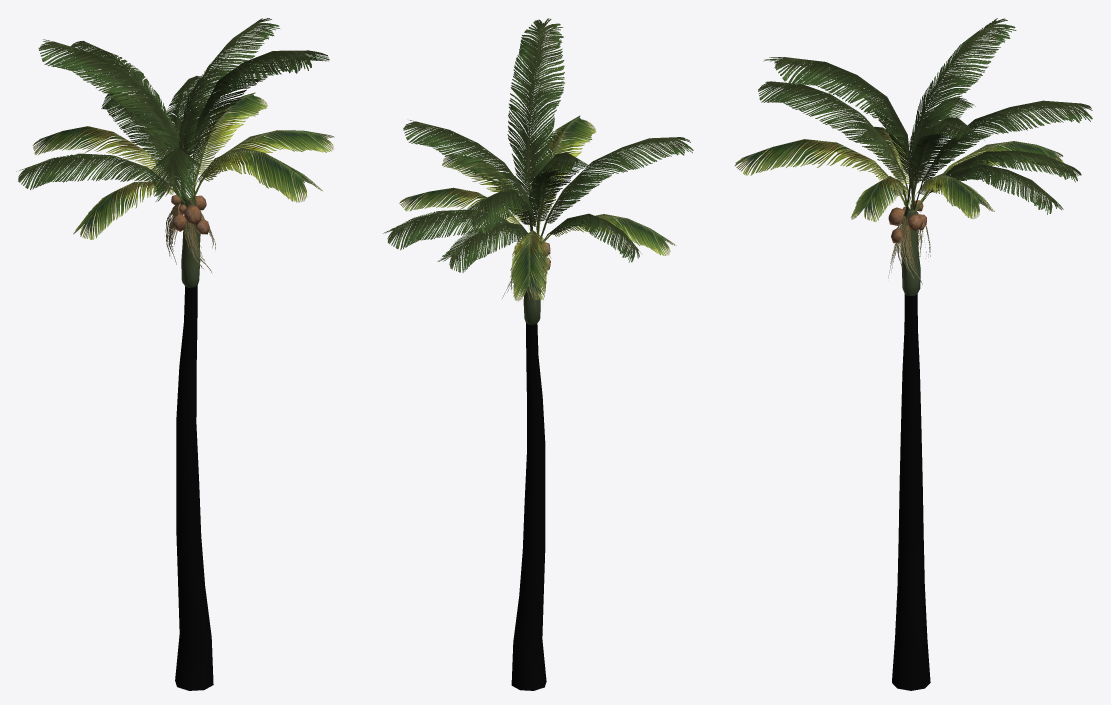
File: kiV3_2s_Hi.fbx
The picture shows the model from 3 angles, left to right: view 1: azimuth 30°, elevation 25°; view 2: azimuth 150°, elevation 25°; view 3: azimuth 270°, elevation 25°; orthographic projection. The views are drawn at different scales.
Parts seen in each view (by area): view 1: kiV3_Hi; view 2: kiV3_Hi; view 3: kiV3_Hi.
Part boxes in pixels (x1,y1,x2,y2): kiV3_Hi: (16, 18, 334, 690); kiV3_Hi: (383, 18, 693, 690); kiV3_Hi: (734, 18, 1092, 690).
Bounding box in the file's own units: 2212 × 5127 × 2614.
